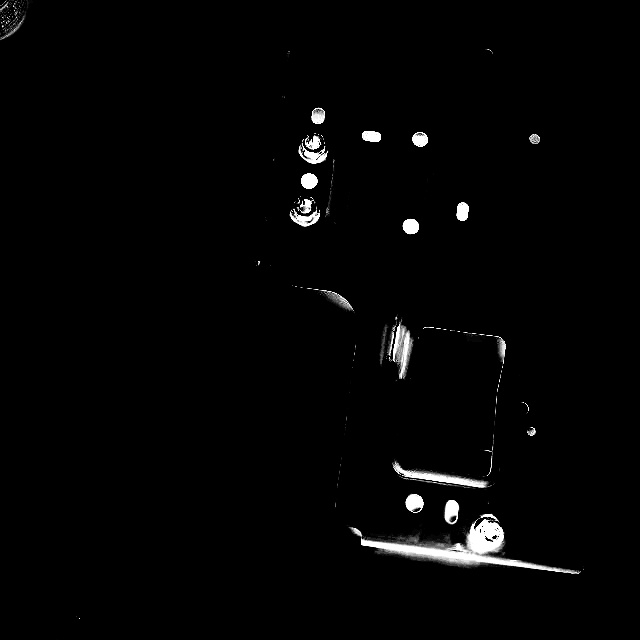dog: (469, 511, 505, 552), (296, 130, 331, 165), (287, 193, 322, 227)
